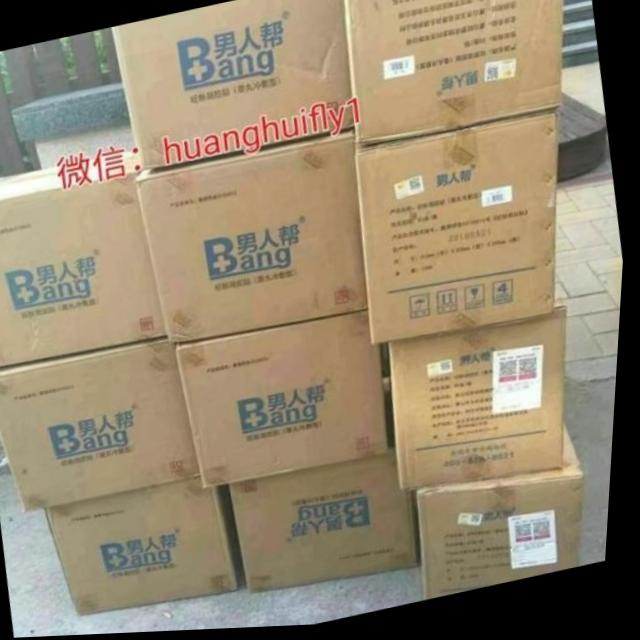box: (139, 131, 372, 346), (357, 115, 559, 349), (111, 0, 355, 170), (180, 312, 394, 491), (0, 149, 171, 367), (0, 338, 207, 511), (394, 298, 571, 494), (344, 0, 564, 148), (423, 426, 591, 602), (233, 451, 427, 596), (49, 476, 244, 619)
